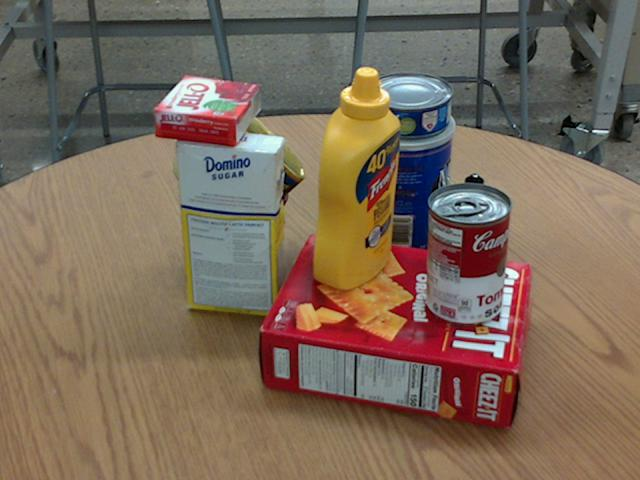cracker_box: (262, 233, 532, 427)
gelatin_box: (154, 75, 260, 144)
large_marker: (455, 173, 482, 285)
master_chef_can: (351, 100, 456, 263)
mug: (194, 170, 287, 278)
mustard_bottle: (312, 66, 399, 290)
potted_meat_can: (174, 105, 306, 234)
sugar_box: (174, 127, 285, 318)
tomato_soup_can: (425, 181, 512, 324)
tuna_fish_can: (367, 72, 453, 137)
